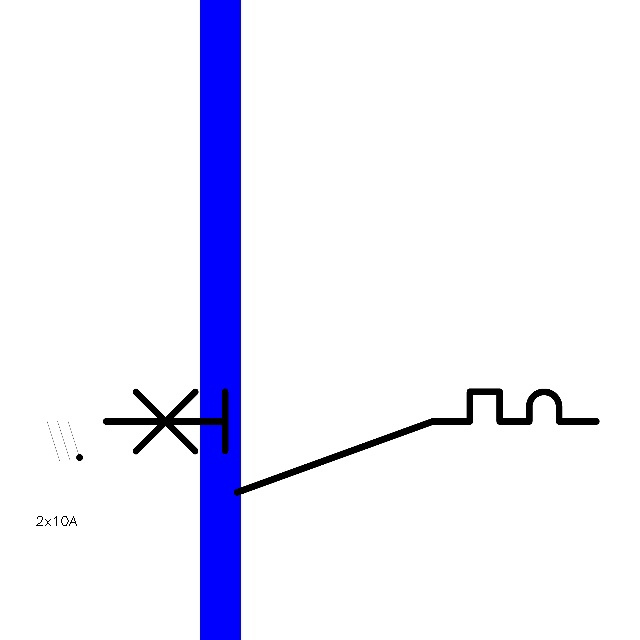interruptor_termomagnetico: (93, 379, 609, 505)
